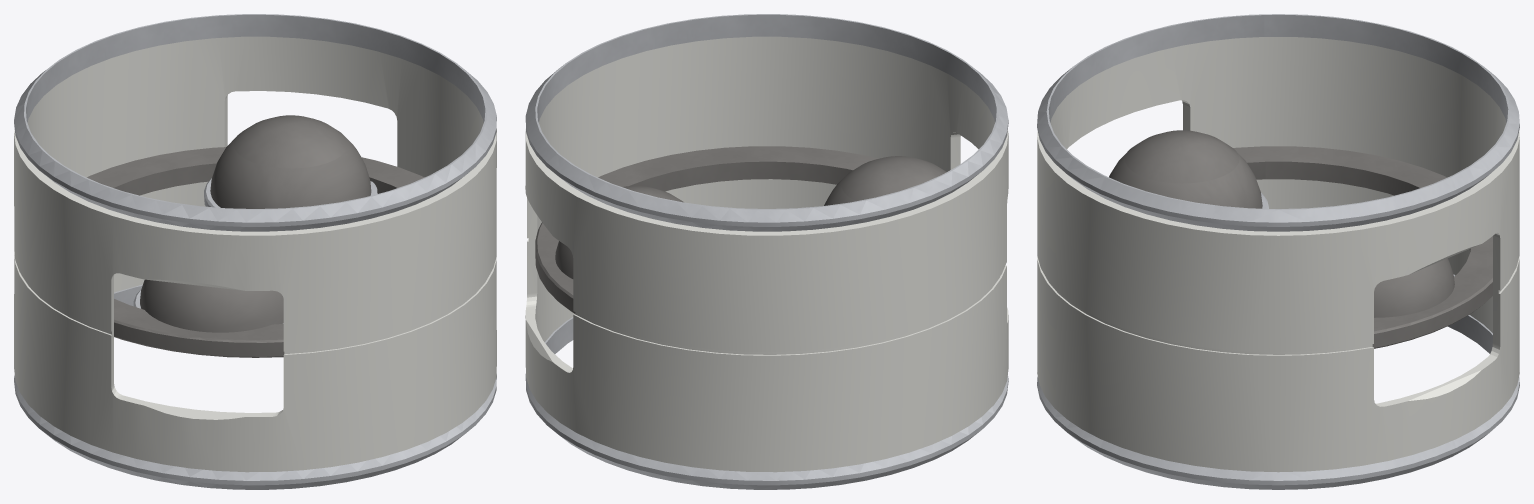
Rendered from ax_tank_04_header_section_m.glb.
The picture shows the model from 3 angles, left to right: view 1: azimuth 30°, elevation 25°; view 2: azimuth 150°, elevation 25°; view 3: azimuth 270°, elevation 25°; orthographic projection.
Visible parts, largest first — view 1: barrel, end_rings, header_tanks, ring_frame; view 2: barrel, end_rings, ring_frame, header_tanks; view 3: barrel, end_rings, header_tanks, ring_frame.
Boxes of the visible parts, x1,y1,x2,y2 form: barrel: (14, 36, 496, 472); end_rings: (14, 14, 496, 489); header_tanks: (140, 115, 371, 332); ring_frame: (87, 147, 424, 357); barrel: (525, 36, 1008, 472); end_rings: (525, 14, 1008, 489); ring_frame: (535, 146, 878, 313); header_tanks: (555, 156, 946, 278); barrel: (1037, 37, 1519, 472); end_rings: (1037, 14, 1519, 489); header_tanks: (1109, 130, 1454, 317); ring_frame: (1233, 146, 1492, 348).
Size of the model in its own units: 2.5 by 1.6 by 2.5.
3 materials, 2 textured.
